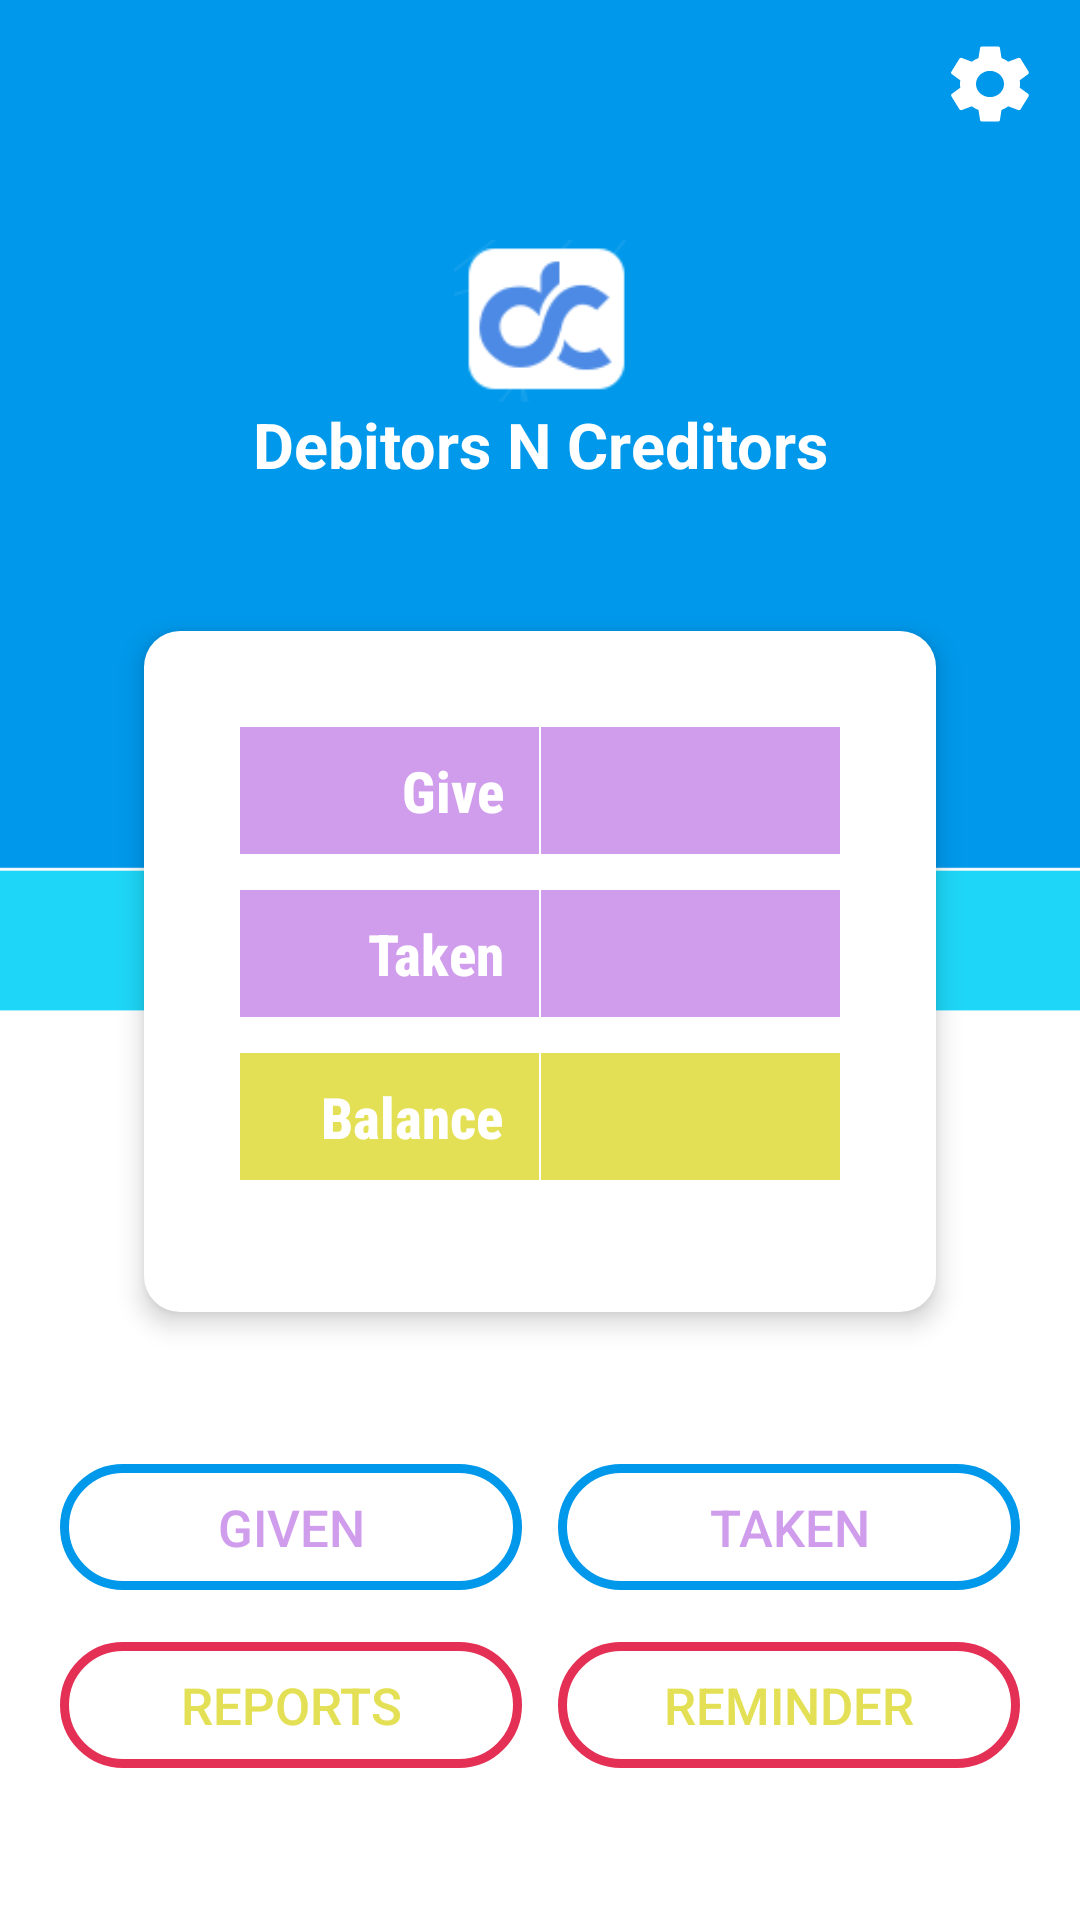

Named icons in this screenshot (1080px x 1920px) and their centers, [x,y]:
setting: [990,84]
